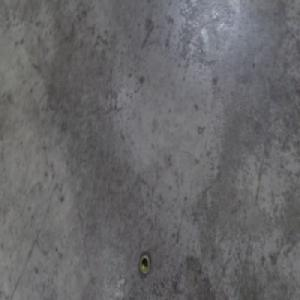Nut: (139, 251, 151, 277)
